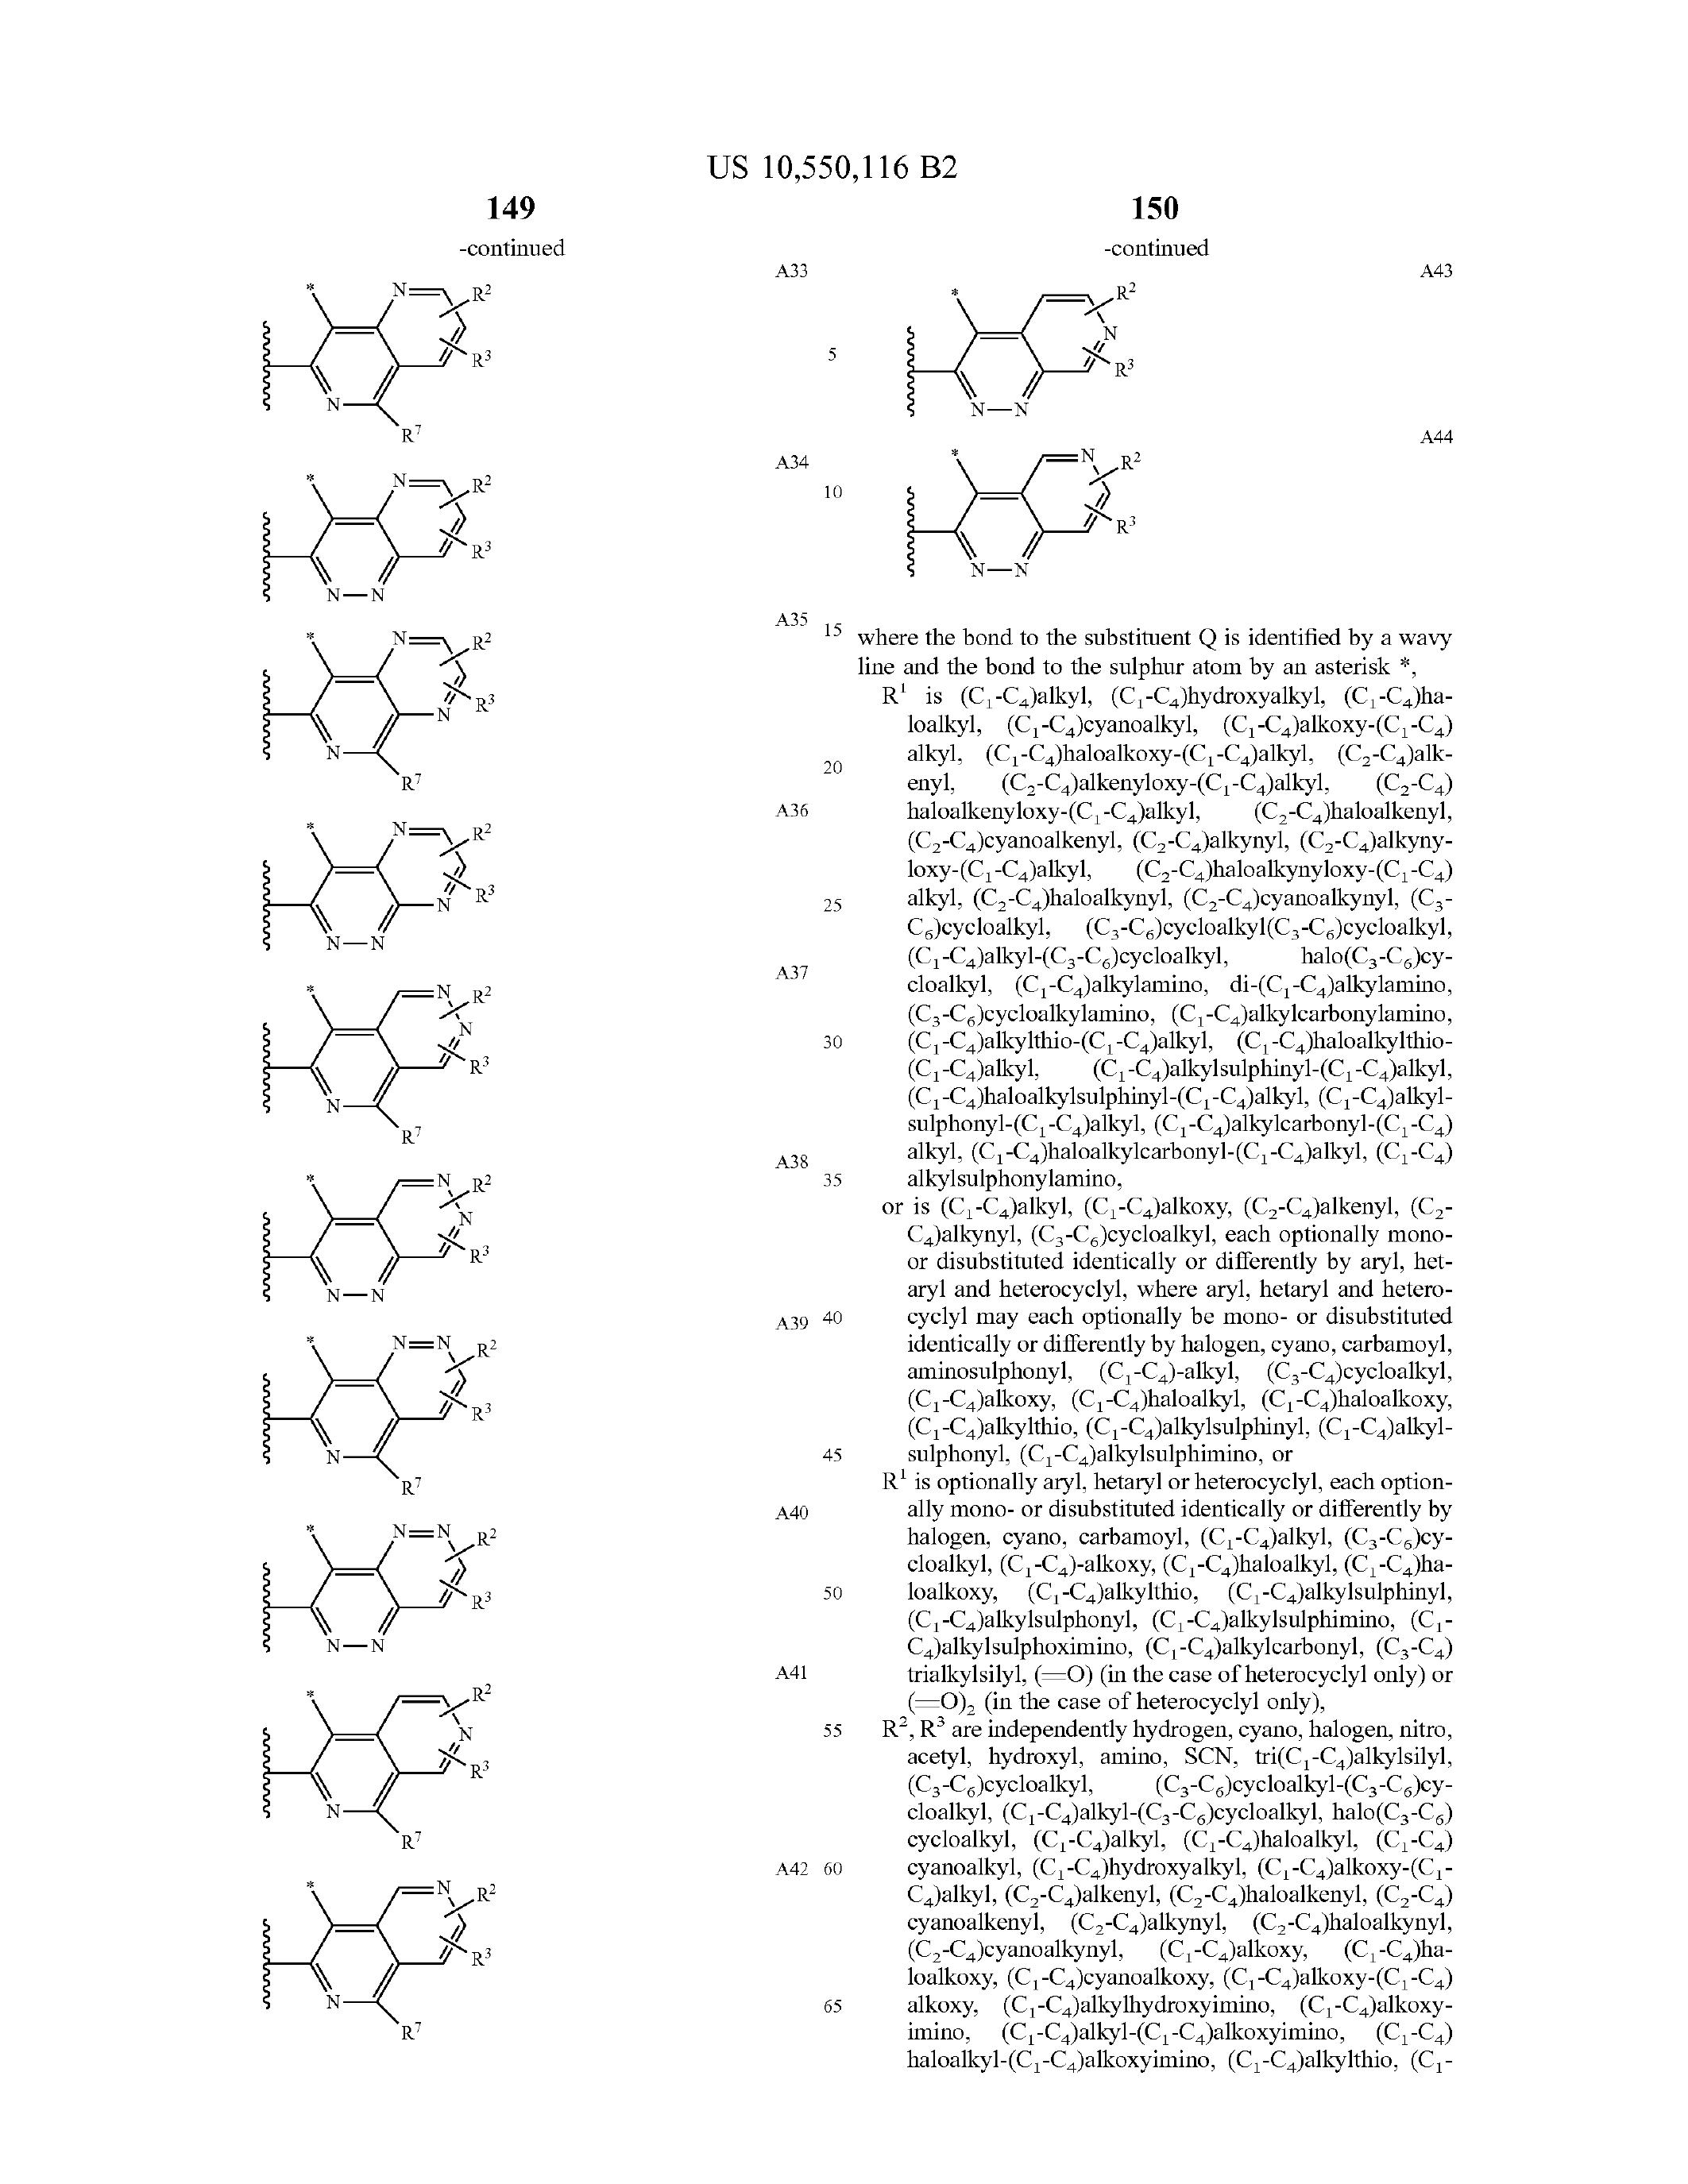substitutes: (232, 245, 495, 452), (232, 1328, 534, 1493), (243, 626, 527, 796), (243, 1682, 527, 1851), (252, 1868, 520, 2046), (238, 980, 514, 1143), (853, 280, 1165, 422), (892, 433, 1160, 596), (238, 814, 530, 959), (234, 1512, 516, 1659), (239, 1161, 520, 1308), (248, 466, 509, 606)
